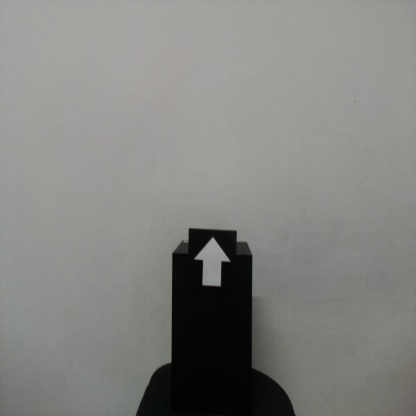id_1: (189, 230, 237, 300)
